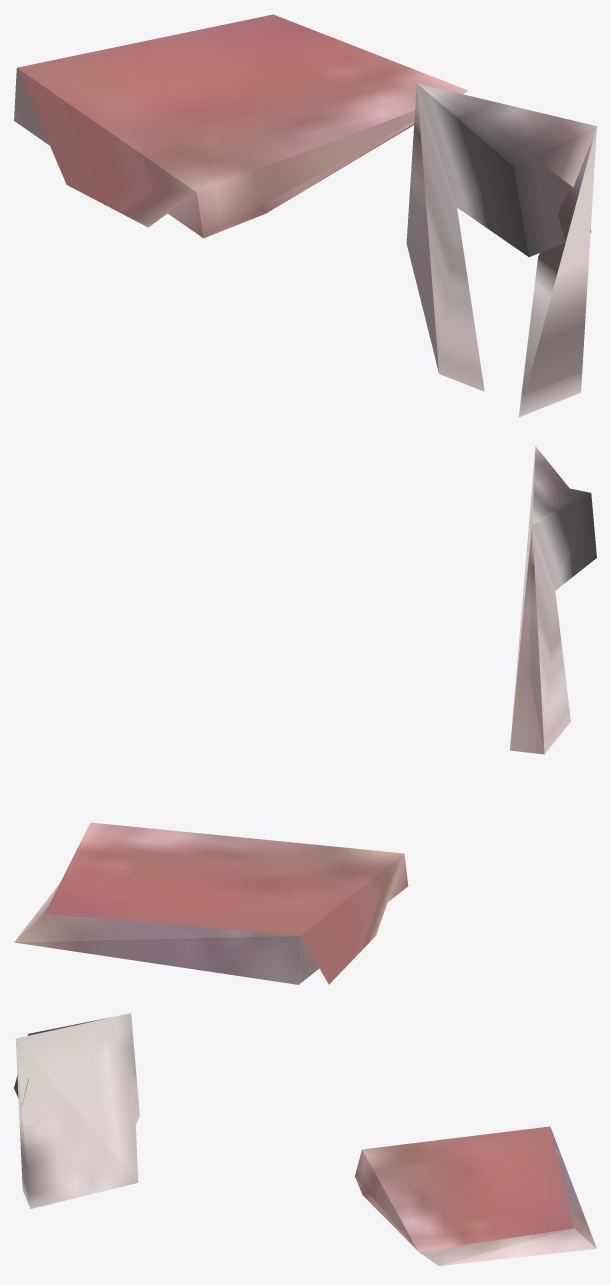
3 views of the same model, one above another, from view 1: azimuth 30°, elevation 25°; view 2: azimuth 150°, elevation 25°; view 3: azimuth 270°, elevation 25° (orthographic). The views are drawn at different scales.
Parts seen in each view (by area): view 1: Mesh_0; view 2: Mesh_0; view 3: Mesh_0.
Boxes of the visible parts, x1=… form: Mesh_0: x1=14, y1=14, x2=596, y2=417; Mesh_0: x1=14, y1=446, x2=596, y2=984; Mesh_0: x1=14, y1=1013, x2=596, y2=1265.
Bounding box in the file's own units: 4.71 × 3.92 × 10.84.
1 material, 1 textured.
